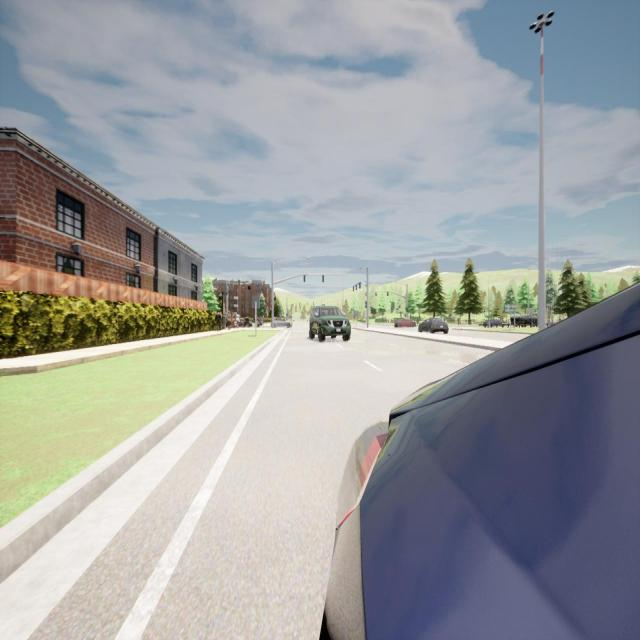Pedestrian: (215, 310, 222, 331), (225, 310, 232, 331), (235, 311, 241, 328), (242, 315, 247, 327), (256, 316, 260, 328), (247, 316, 250, 328), (260, 316, 263, 326), (233, 314, 235, 327)
Traffic_Signs: (505, 305, 517, 312), (252, 296, 259, 306)
Vehicle: (325, 284, 639, 638), (309, 306, 350, 342), (419, 318, 448, 334), (270, 317, 292, 328), (394, 319, 416, 327), (483, 319, 501, 328)
traffic_light: (365, 301, 367, 308), (304, 275, 306, 282), (322, 275, 324, 282), (359, 282, 361, 288), (352, 286, 354, 292), (375, 292, 377, 296), (406, 308, 408, 312), (387, 292, 389, 296), (356, 284, 357, 290)
